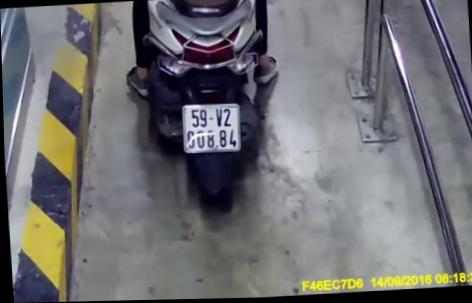LP: (178, 100, 242, 155)
